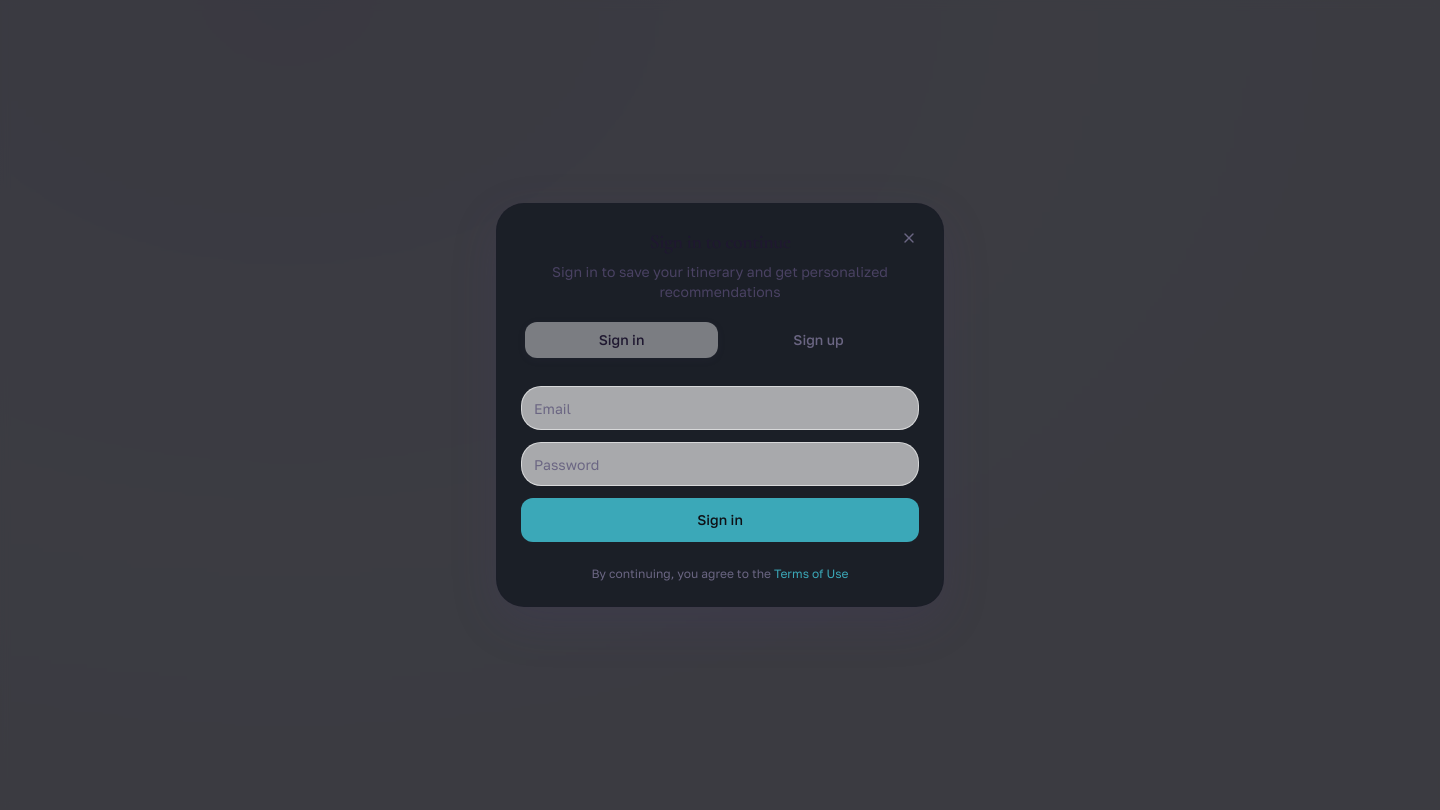
Test case: AuthModal translations › shows English sign-in and registration UI and validation
expect the field with placeholder "Email" is shown: met, box [521, 386, 919, 430]
Step 1. Click the button "Sign up" → {"x": 818, "y": 340}, box [722, 322, 915, 358]
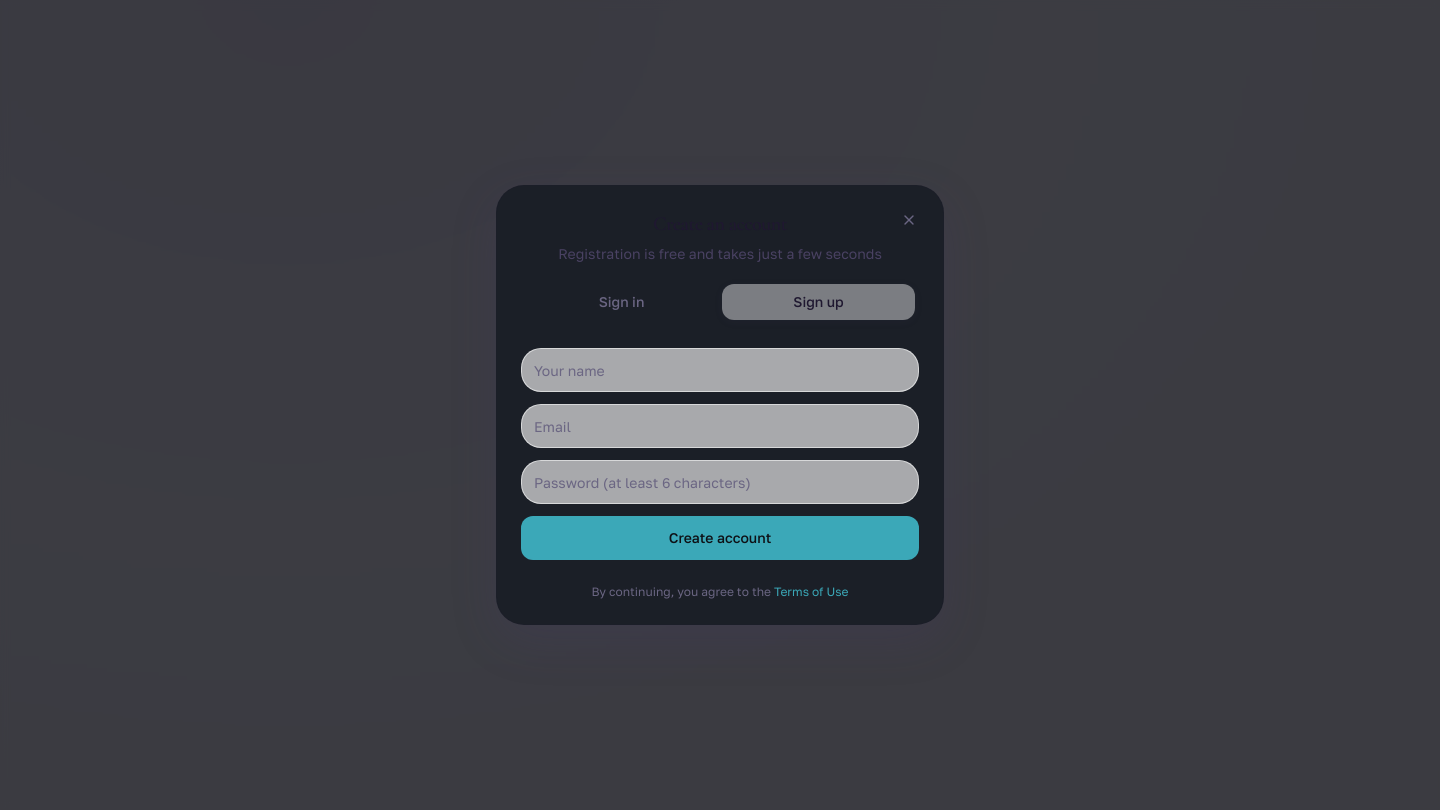
Step 2. Click the button "Create account" → {"x": 720, "y": 538}, box [521, 516, 919, 560]
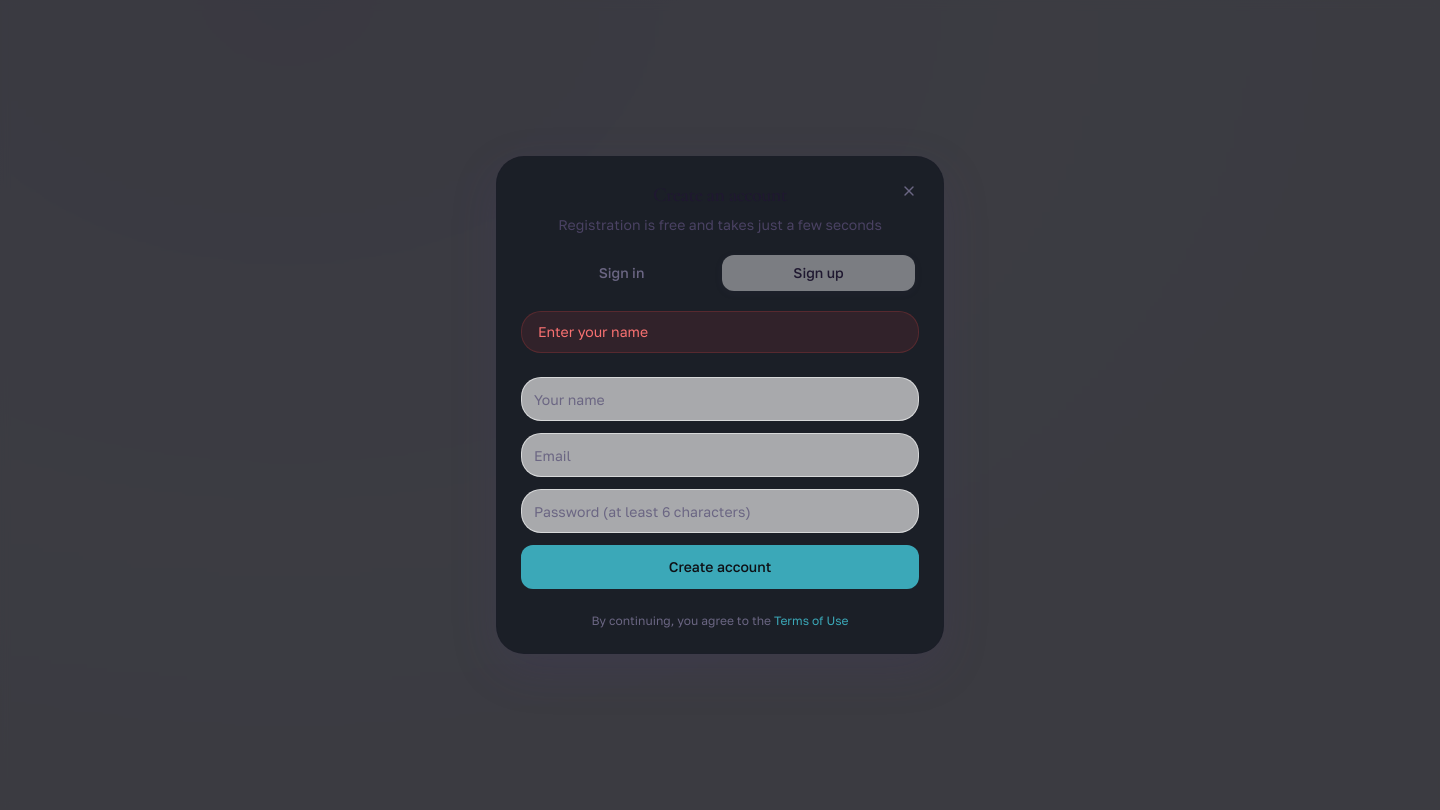
expect the text "Enter your name" is shown: met, box [521, 311, 919, 353]
